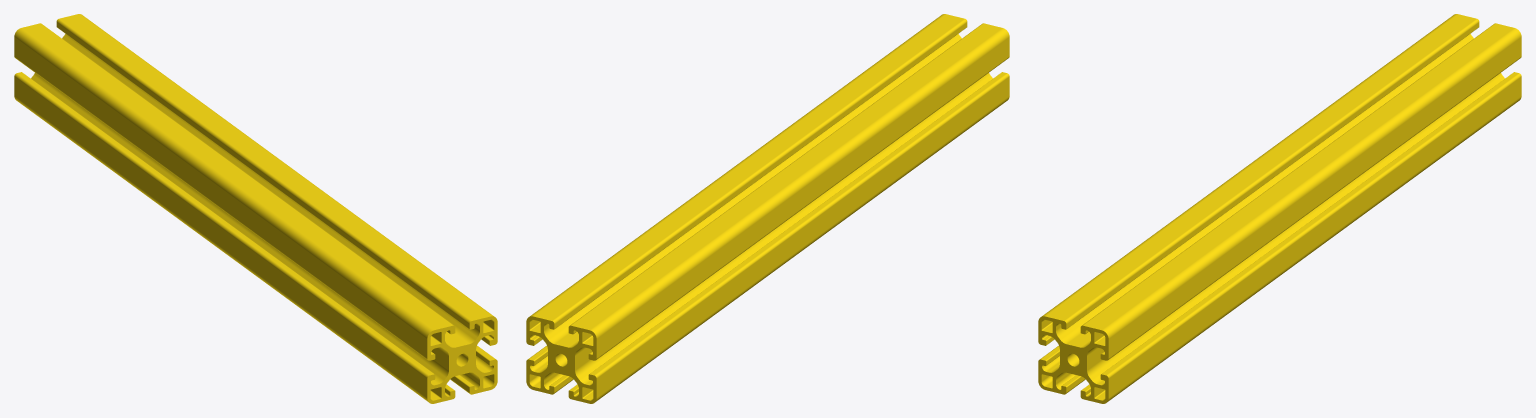
3 renders of one model, left to right at view 1: azimuth 30°, elevation 25°; view 2: azimuth 150°, elevation 25°; view 3: azimuth 330°, elevation 25°, orthographic.
Parts seen in each view (by area): view 1: mesh143, mesh42, mesh100, mesh126, mesh127, mesh41, mesh101, mesh2, mesh102, mesh40, mesh30, mesh111 (+9 smaller); view 2: mesh143, mesh42, mesh100, mesh126, mesh127, mesh41, mesh101, mesh1, mesh102, mesh40, mesh30, mesh111 (+9 smaller); view 3: mesh98, mesh72, mesh126, mesh100, mesh99, mesh73, mesh125, mesh2, mesh124, mesh74, mesh84, mesh115 (+9 smaller).
Part boxes in pixels (x1,y1,x2,y2): mesh143: (14,37,427,357); mesh42: (14,77,427,397); mesh100: (59,14,490,320); mesh126: (22,23,452,329); mesh127: (14,28,433,338); mesh41: (14,73,429,378); mesh101: (56,19,471,323); mesh2: (427,316,497,403); mesh102: (56,22,469,328); mesh40: (17,72,433,375); mesh30: (33,73,448,377); mesh111: (62,35,477,339); mesh143: (596,37,1009,357); mesh42: (596,77,1009,397); mesh100: (533,14,964,320); mesh126: (571,23,1001,329); mesh127: (590,28,1009,338); mesh41: (594,73,1009,378); mesh101: (552,19,967,323); mesh1: (526,316,596,403); mesh102: (554,22,967,328); mesh40: (590,72,1006,375); mesh30: (575,73,990,377); mesh111: (546,35,961,339); mesh98: (1108,37,1521,357); mesh72: (1108,77,1521,397); mesh126: (1045,14,1476,320); mesh100: (1083,23,1513,329); mesh99: (1102,28,1521,338); mesh73: (1106,73,1521,378); mesh125: (1064,19,1479,323); mesh2: (1038,316,1108,403); mesh124: (1066,22,1479,328); mesh74: (1102,72,1518,375); mesh84: (1087,73,1502,377); mesh115: (1058,35,1473,339).
Size of the model in its own units: 0.04 by 0.04 by 0.407.
